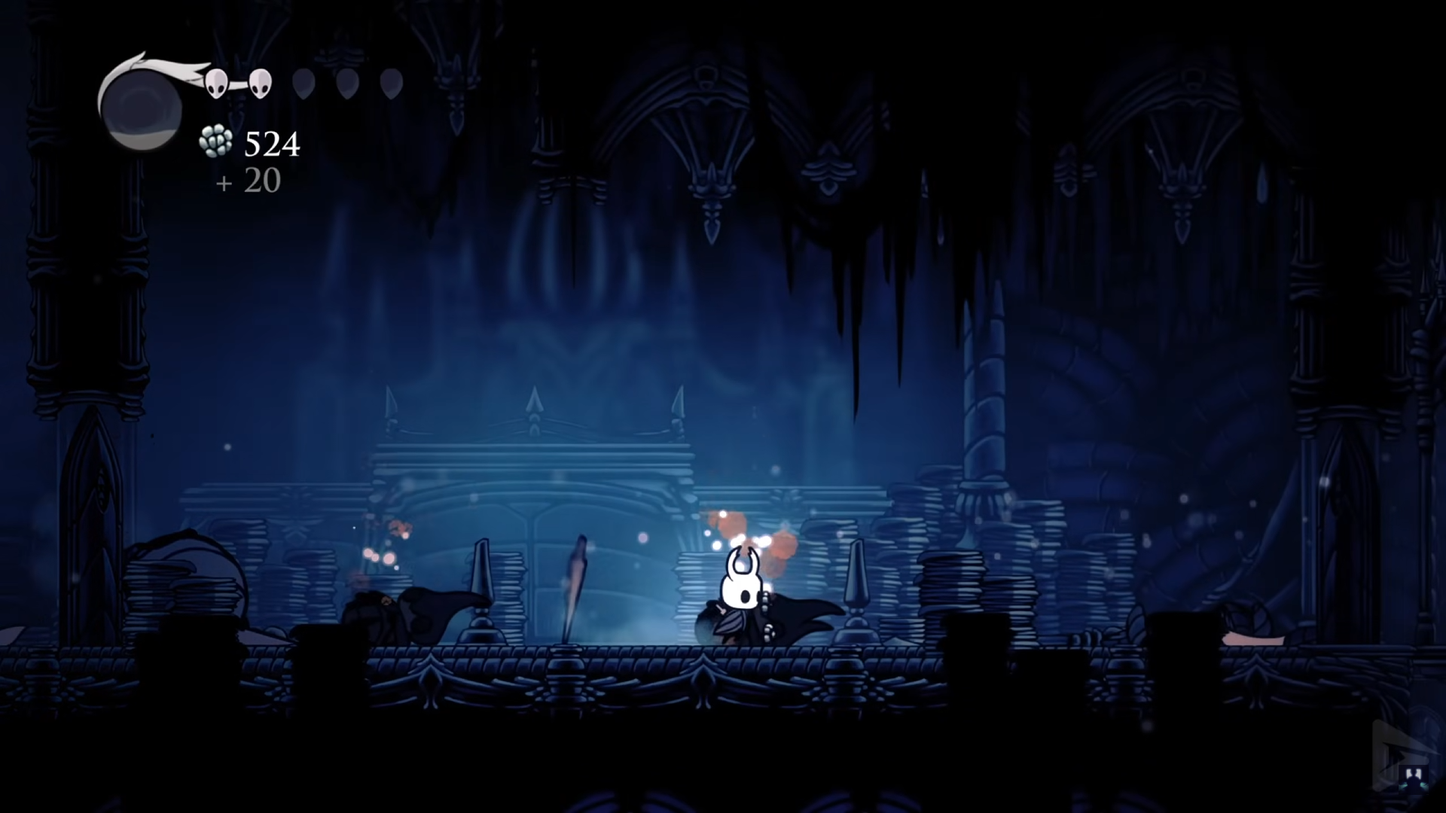HK: (705, 541, 776, 650)
